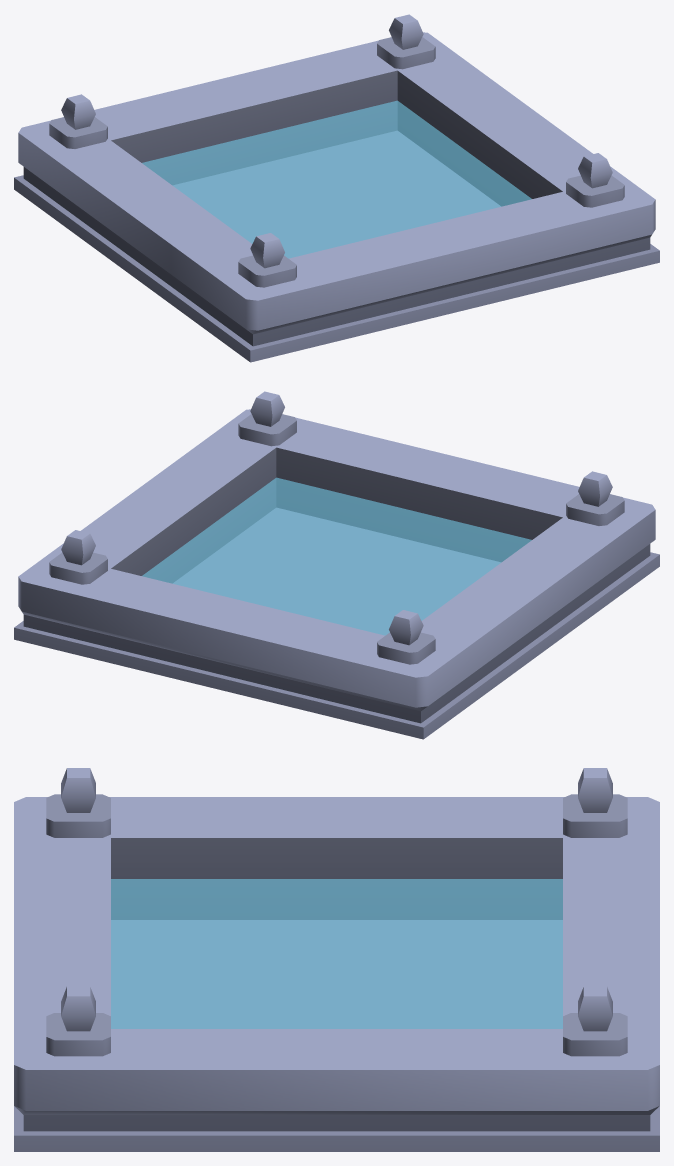
File: fountain-square.glb
The picture shows the model from 3 angles, top to bottom: view 1: azimuth 30°, elevation 25°; view 2: azimuth 150°, elevation 25°; view 3: azimuth 270°, elevation 25°; orthographic projection. The views are drawn at different scales.
Visible parts, largest first — view 1: fountain-square, (%ignore); view 2: fountain-square, (%ignore); view 3: fountain-square, (%ignore).
Boxes of the visible parts, x1,y1,x2,y2 form: fountain-square: (14, 14, 659, 362); (%ignore): (142, 100, 531, 258); fountain-square: (14, 391, 659, 739); (%ignore): (142, 477, 531, 635); fountain-square: (14, 768, 659, 1151); (%ignore): (111, 879, 562, 1028).
Size of the model in its own units: 2 by 0.4551 by 2.
Materials: 2 (1 with a texture image).
